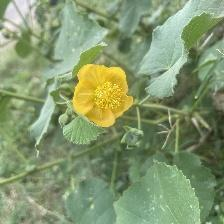indian mallow: (71, 62, 134, 128)
